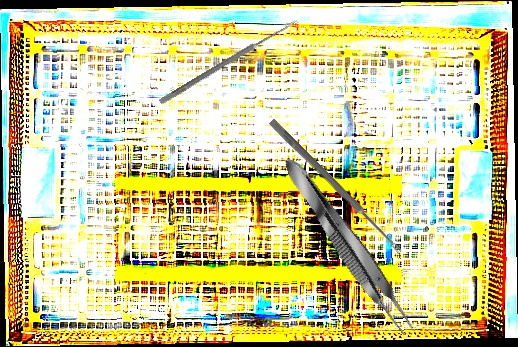Surgical Spoon: (267, 118, 405, 255), (158, 17, 300, 106)
Tissue Forceps: (276, 150, 421, 341)
